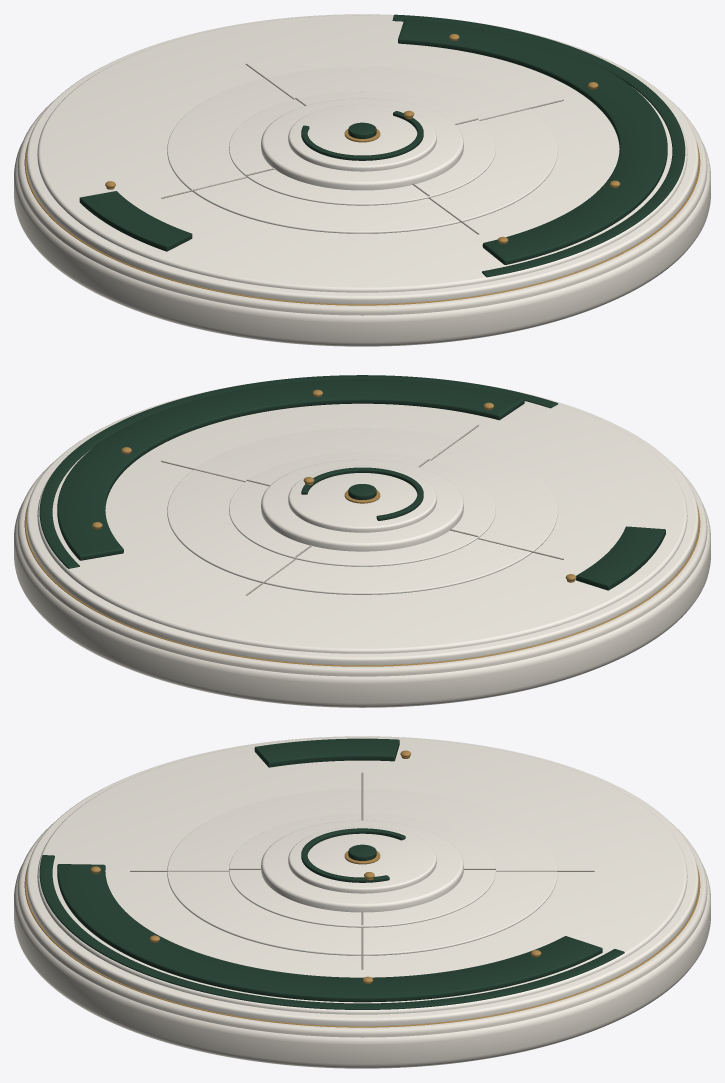
Rendered from reflow-orb-reference-master.glb.
The picture shows the model from 3 angles, top to bottom: view 1: azimuth 30°, elevation 25°; view 2: azimuth 150°, elevation 25°; view 3: azimuth 270°, elevation 25°; orthographic projection.
Parts seen in each view (by area): view 1: TopPlate, ConcentricCeramicTierOuter, ReflowBody, PrimaryForestTrack_0, UpperSidewall, ConcentricCeramicTierInner, LowerSidewall, CenterLowerPedestal, CenterUpperPedestal, SecondaryForestTrack_0, PrimaryForestTrack_1, SidewallBrassReveal (+1 smaller); view 2: TopPlate, ConcentricCeramicTierOuter, ReflowBody, PrimaryForestTrack_0, UpperSidewall, ConcentricCeramicTierInner, LowerSidewall, CenterLowerPedestal, CenterUpperPedestal, SecondaryForestTrack_0, PrimaryForestTrack_1, SidewallBrassReveal (+1 smaller); view 3: TopPlate, ConcentricCeramicTierOuter, ReflowBody, PrimaryForestTrack_0, UpperSidewall, ConcentricCeramicTierInner, LowerSidewall, CenterLowerPedestal, CenterUpperPedestal, SecondaryForestTrack_0, PrimaryForestTrack_1, SidewallBrassReveal (+1 smaller).
Part boxes in pixels (box(x1,y1,x2,y2)): TopPlate: box(37, 15, 687, 292); ConcentricCeramicTierOuter: box(167, 67, 557, 233); ReflowBody: box(14, 142, 710, 346); PrimaryForestTrack_0: box(398, 19, 667, 264); UpperSidewall: box(26, 14, 698, 304); ConcentricCeramicTierInner: box(229, 91, 495, 205); LowerSidewall: box(17, 100, 707, 315); CenterLowerPedestal: box(261, 98, 463, 190); CenterUpperPedestal: box(288, 104, 436, 171); SecondaryForestTrack_0: box(392, 14, 685, 277); PrimaryForestTrack_1: box(79, 191, 192, 251); SidewallBrassReveal: box(24, 143, 700, 305); TopPlate: box(37, 401, 687, 653); ConcentricCeramicTierOuter: box(167, 428, 557, 594); ReflowBody: box(14, 501, 710, 707); PrimaryForestTrack_0: box(57, 379, 524, 560); UpperSidewall: box(26, 386, 698, 665); ConcentricCeramicTierInner: box(229, 452, 495, 566); LowerSidewall: box(17, 462, 707, 676); CenterLowerPedestal: box(261, 459, 463, 551); CenterUpperPedestal: box(288, 465, 436, 532); SecondaryForestTrack_0: box(39, 375, 557, 568); PrimaryForestTrack_1: box(576, 526, 665, 590); SidewallBrassReveal: box(24, 503, 700, 666); TopPlate: box(37, 737, 687, 1014); ConcentricCeramicTierOuter: box(167, 789, 557, 955); ReflowBody: box(14, 864, 710, 1068); PrimaryForestTrack_0: box(57, 864, 602, 1002); UpperSidewall: box(26, 736, 698, 1026); ConcentricCeramicTierInner: box(229, 813, 495, 927); LowerSidewall: box(17, 822, 707, 1037); CenterLowerPedestal: box(261, 820, 463, 912); CenterUpperPedestal: box(288, 826, 436, 893); SecondaryForestTrack_0: box(39, 855, 624, 1009); PrimaryForestTrack_1: box(254, 738, 399, 767); SidewallBrassReveal: box(24, 865, 700, 1027).
Size of the model in its own units: 5.64 by 0.6759 by 5.64.
